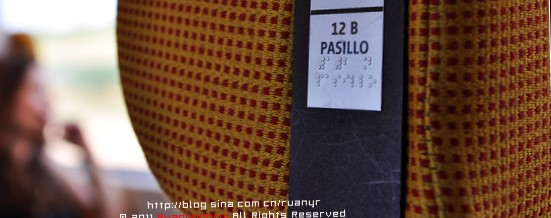Braille: (367, 74, 377, 89), (341, 73, 350, 88), (359, 73, 367, 89), (363, 56, 371, 71), (333, 73, 341, 88), (350, 73, 358, 88), (343, 57, 352, 70), (334, 56, 342, 70), (324, 74, 332, 88), (316, 74, 324, 87), (317, 57, 325, 69), (326, 57, 334, 69)
